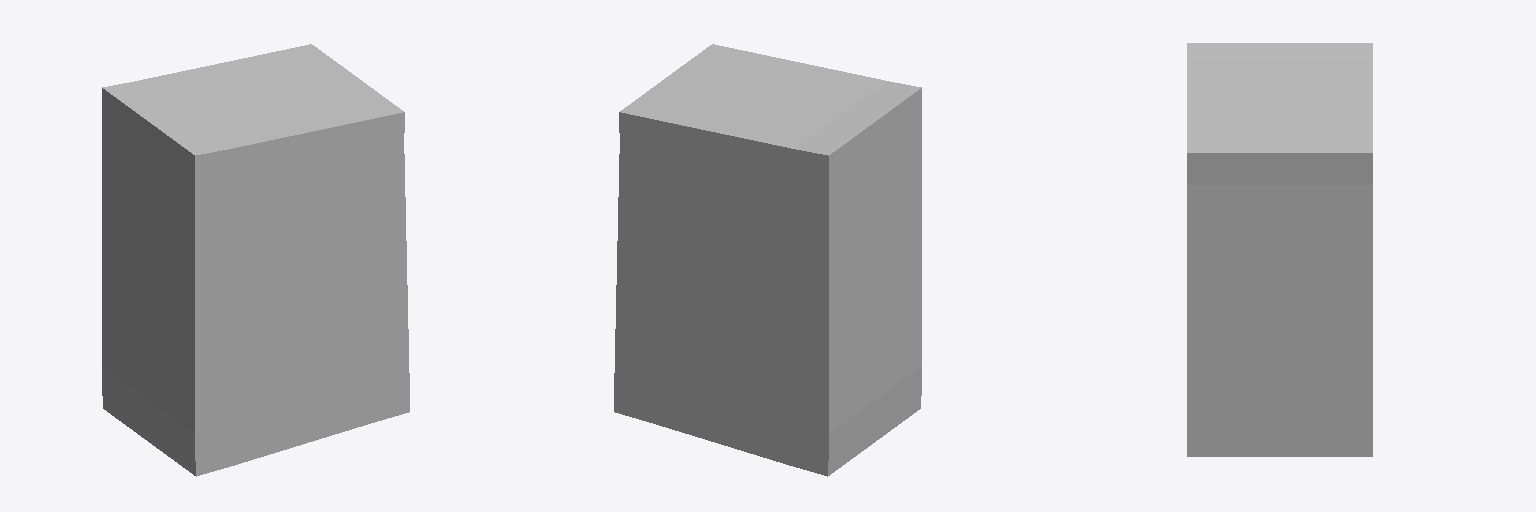
Rendered from room_areas.obj.
3 renders of one model, left to right at view 1: azimuth 30°, elevation 25°; view 2: azimuth 150°, elevation 25°; view 3: azimuth 270°, elevation 25°, orthographic.
Parts seen in each view (by area): view 1: outside, dining_room, kitchen, hallway, living_room, bedroom, bathroom, couch, door; view 2: outside, dining_room, kitchen, hallway, living_room, bedroom, bathroom, couch, door; view 3: outside.
Part boxes in pixels (x1,y1,x2,y2): outside: (102,44,409,476); dining_room: (228,312,303,422); kitchen: (302,295,363,401); hallway: (273,166,303,316); living_room: (302,174,361,269); bedroom: (303,256,362,310); bathroom: (231,173,273,231); couch: (302,182,332,242); door: (301,153,361,188); outside: (614,44,921,476); dining_room: (720,312,795,422); kitchen: (660,295,721,401); hallway: (720,166,750,316); living_room: (662,174,721,269); bedroom: (661,256,720,310); bathroom: (750,173,792,231); couch: (691,182,721,242); door: (662,153,722,188); outside: (1187,43,1372,456).
Size of the model in its own units: 12.55 by 17.85 by 9.38.